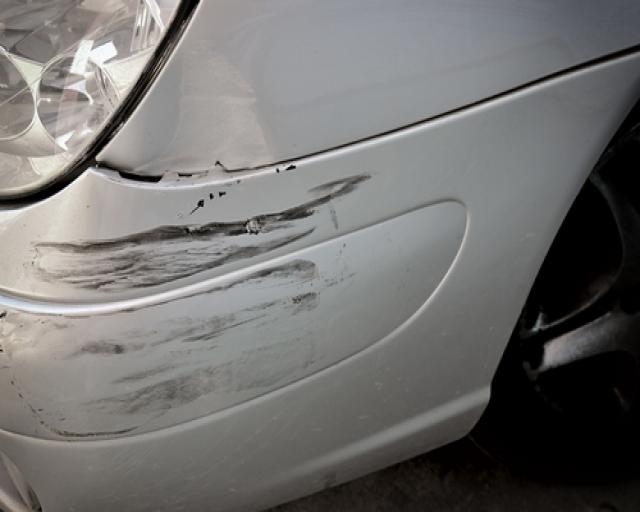scratch: (0, 153, 382, 454)
